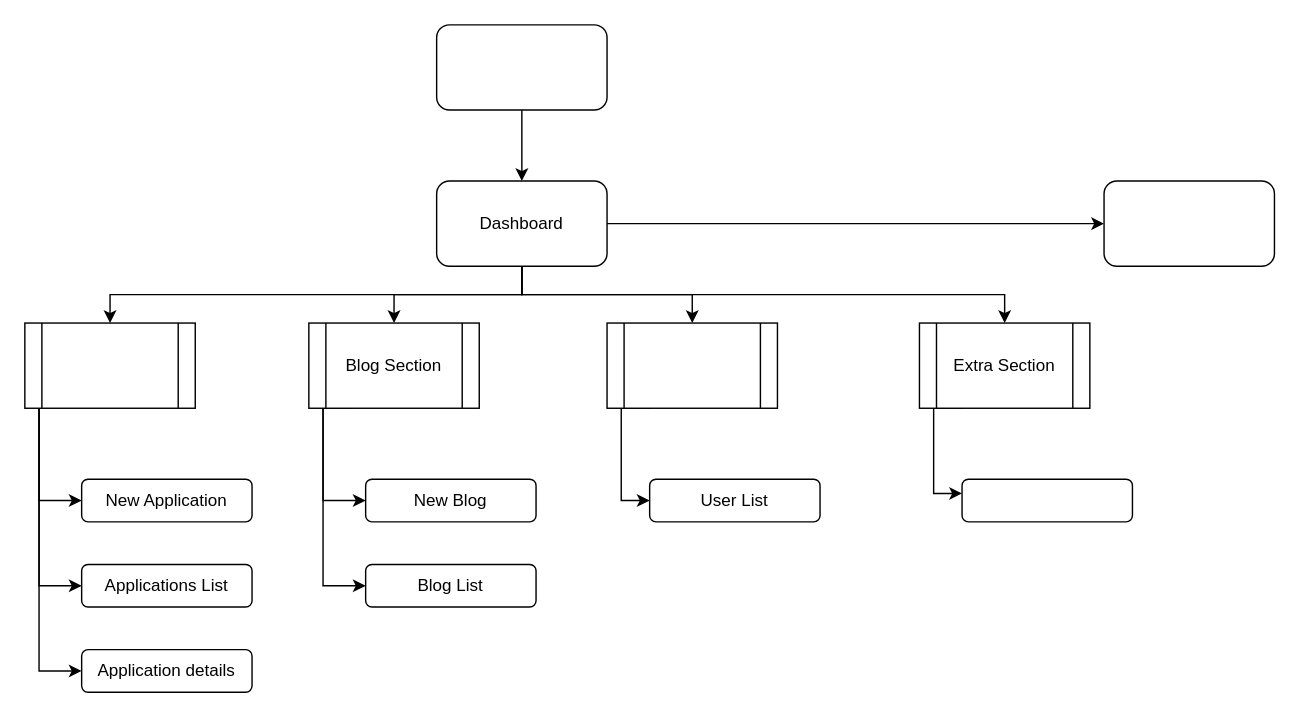
Image size: 1299x717. Some labels were removed from this diagram. Here are the shapes that lost their labels. From the top down, the box of each, then its label:
(435, 23, 607, 110): Login
(1103, 180, 1274, 266): User Profile
(23, 322, 195, 408): Application section
(606, 322, 777, 408): User Section
(961, 478, 1132, 522): Push Notification
